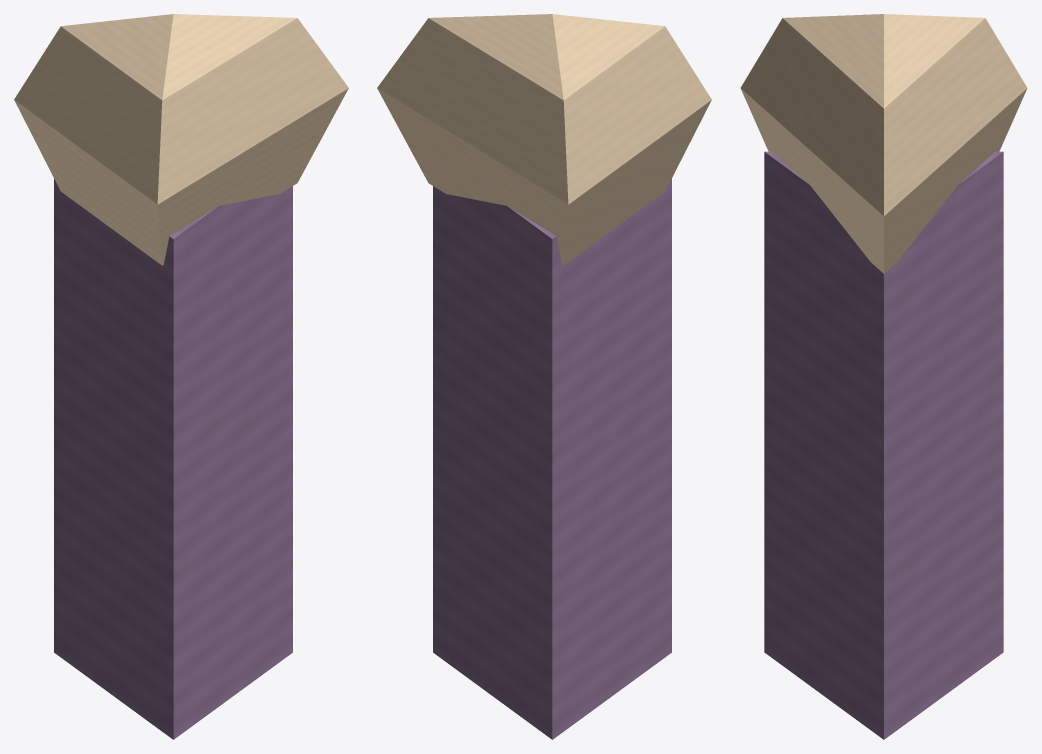
File: atlas100-s083-a05.lod2.glb
3 views of the same model, side by side, from view 1: azimuth 30°, elevation 25°; view 2: azimuth 150°, elevation 25°; view 3: azimuth 270°, elevation 25° (orthographic).
Parts seen in each view (by area): view 1: atlas100-s083-a05:part-001, atlas100-s083-a05:part-002; view 2: atlas100-s083-a05:part-001, atlas100-s083-a05:part-002; view 3: atlas100-s083-a05:part-001, atlas100-s083-a05:part-002.
Part boxes in pixels (left/top/right/bottom): atlas100-s083-a05:part-001: left=54, top=179, right=292, bottom=739; atlas100-s083-a05:part-002: left=14, top=14, right=348, bottom=265; atlas100-s083-a05:part-001: left=433, top=179, right=671, bottom=739; atlas100-s083-a05:part-002: left=377, top=14, right=711, bottom=265; atlas100-s083-a05:part-001: left=764, top=151, right=1003, bottom=739; atlas100-s083-a05:part-002: left=740, top=14, right=1027, bottom=273.
Size of the model in its own units: 0.1802 by 0.4368 by 0.1702.
2 materials, 2 textured.
